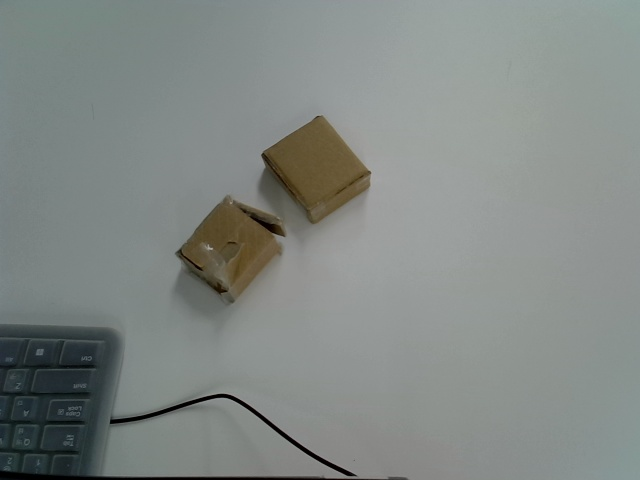defect: (176, 196, 285, 304)
normal: (262, 116, 371, 225)
